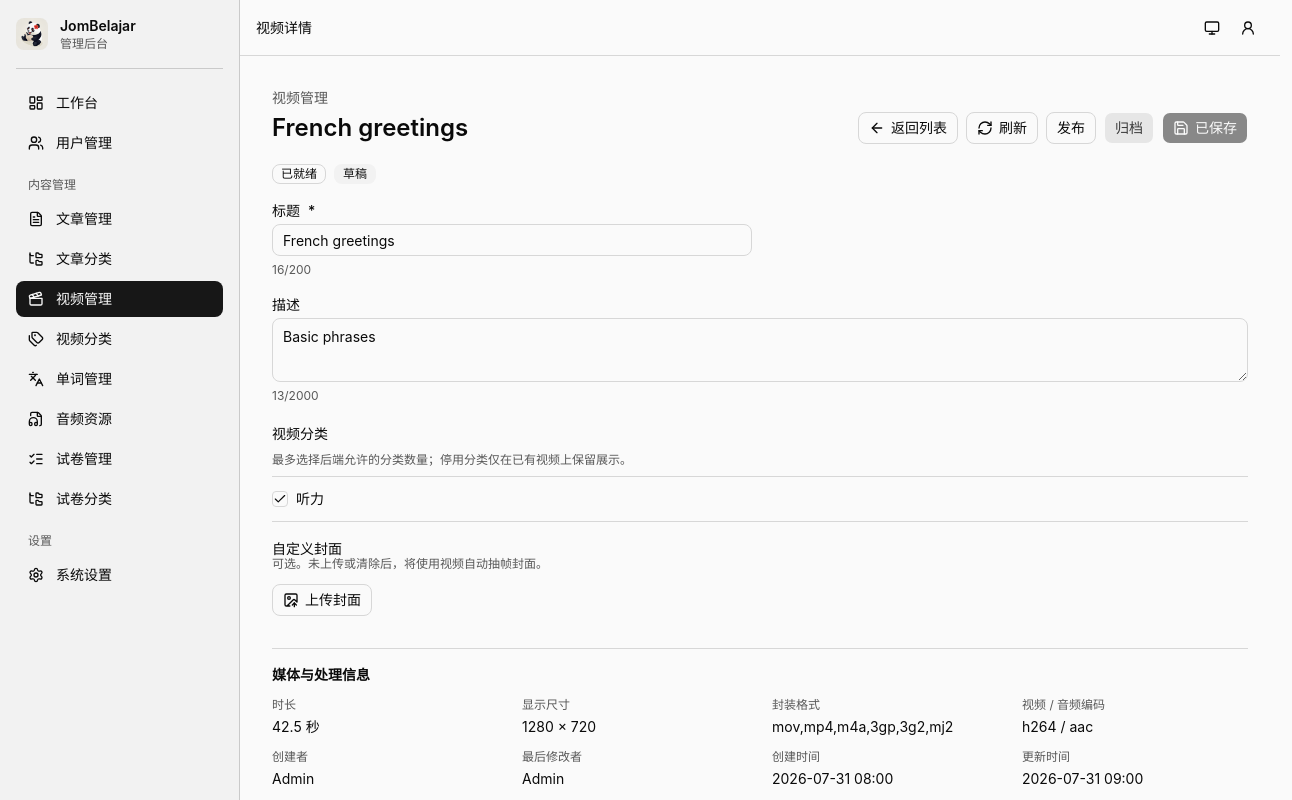
Test: VideoDetails › saves metadata with the latest concurrency stamp
Replace the text in the field labelled "标题 *" with "Updated title" at (512, 240), box [272,224,752,256]
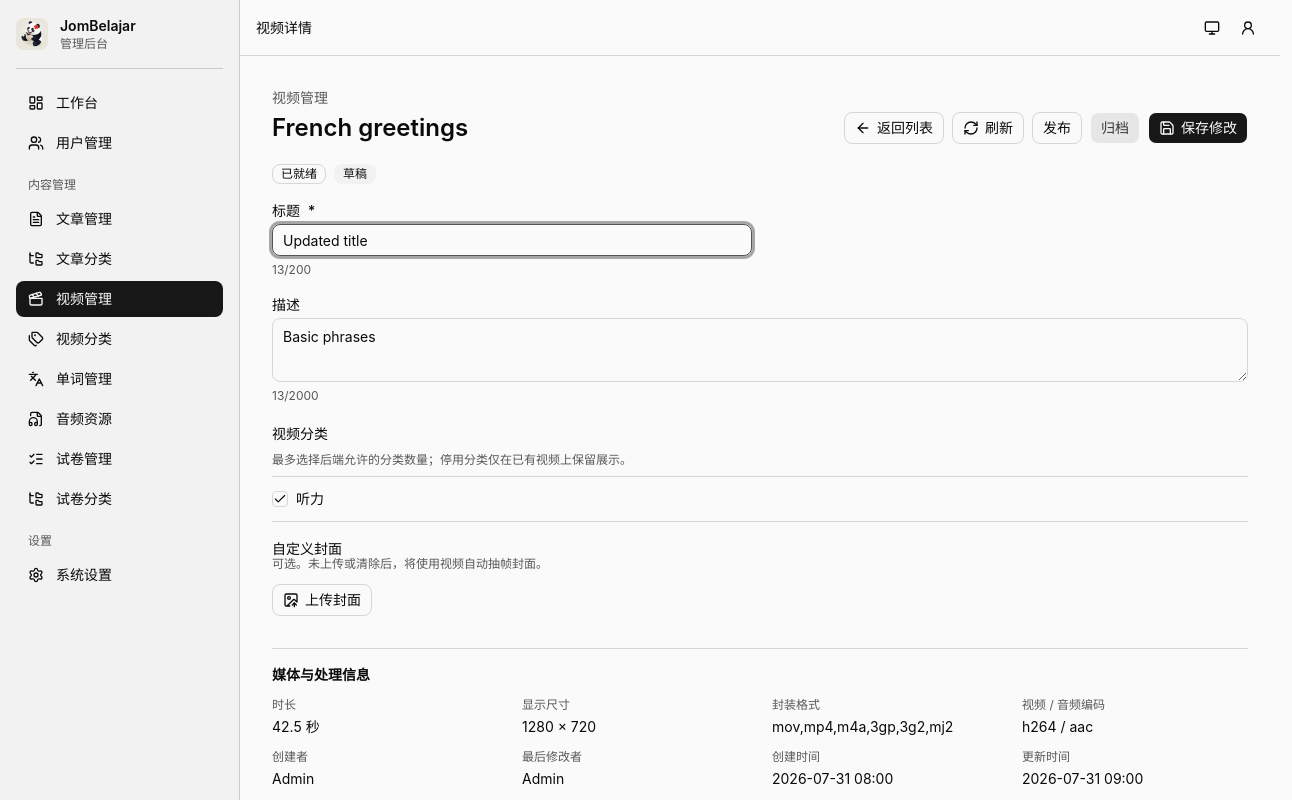
Click the button "保存修改" at (1198, 128), box [1148,112,1248,144]
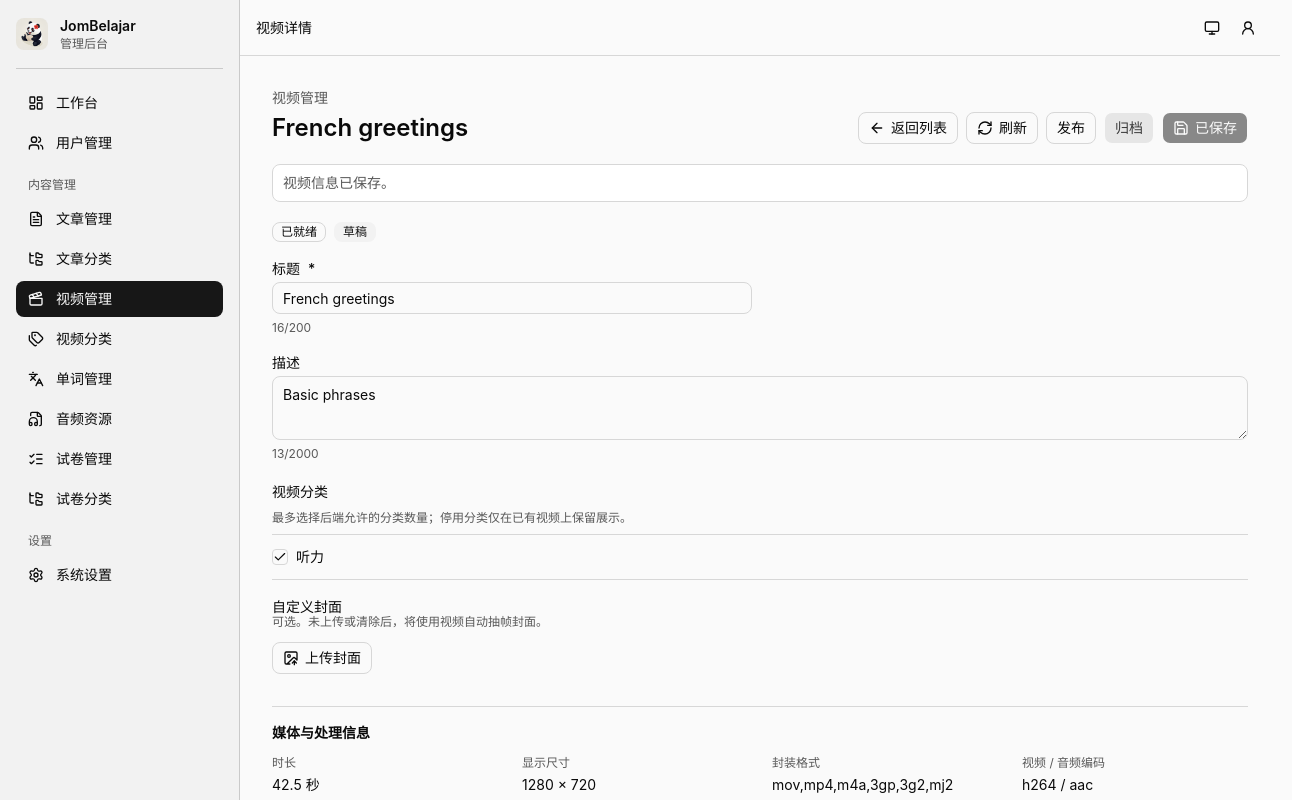
Now the text "视频信息已保存。" is shown, box [283,174,395,191]
